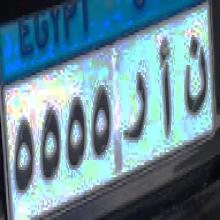5: (88, 78, 114, 163), (64, 92, 88, 175), (39, 107, 61, 189), (12, 119, 36, 194)
alif: (157, 39, 174, 134)
noon: (180, 30, 208, 122)
raa: (124, 69, 150, 154)
